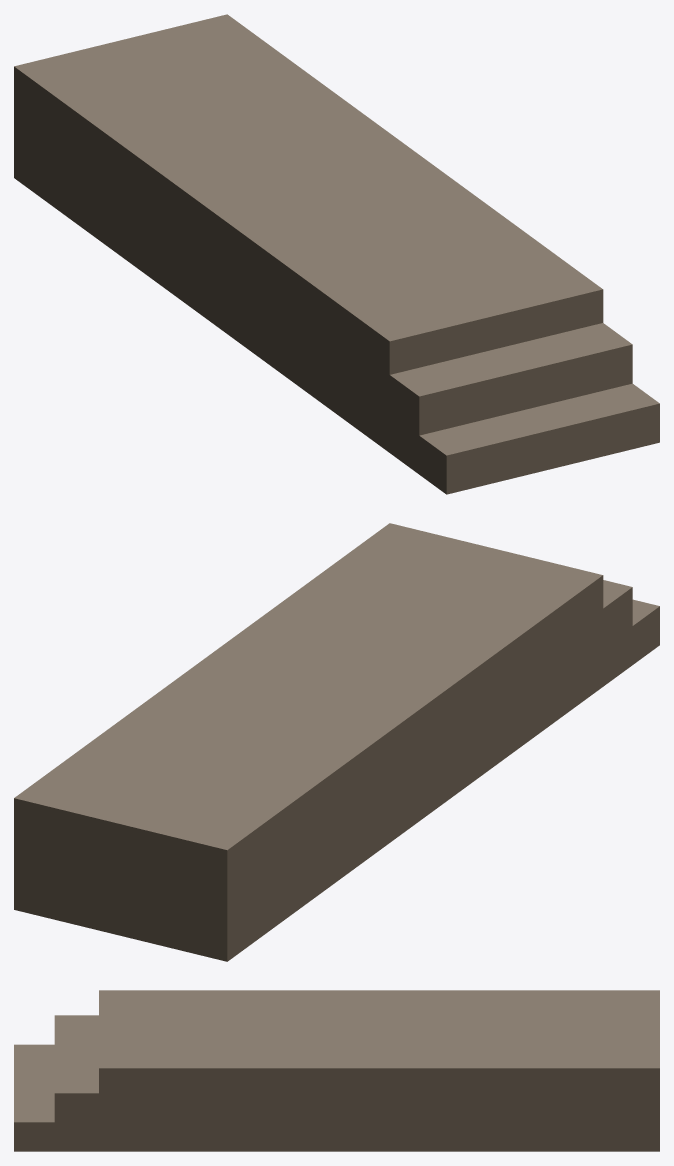
File: Stairs_A4.fbx
3 renders of one model, top to bottom at view 1: azimuth 30°, elevation 25°; view 2: azimuth 150°, elevation 25°; view 3: azimuth 270°, elevation 25°, orthographic. The views are drawn at different scales.
Parts seen in each view (by area): view 1: Stairs_A4; view 2: Stairs_A4; view 3: Stairs_A4.
Boxes of the visible parts, bbox=[...] form: Stairs_A4: bbox=[14, 14, 659, 494]; Stairs_A4: bbox=[14, 523, 659, 961]; Stairs_A4: bbox=[14, 990, 659, 1151].
Size of the model in its own units: 200 by 100 by 702.
Materials: 1 (1 with a texture image).
